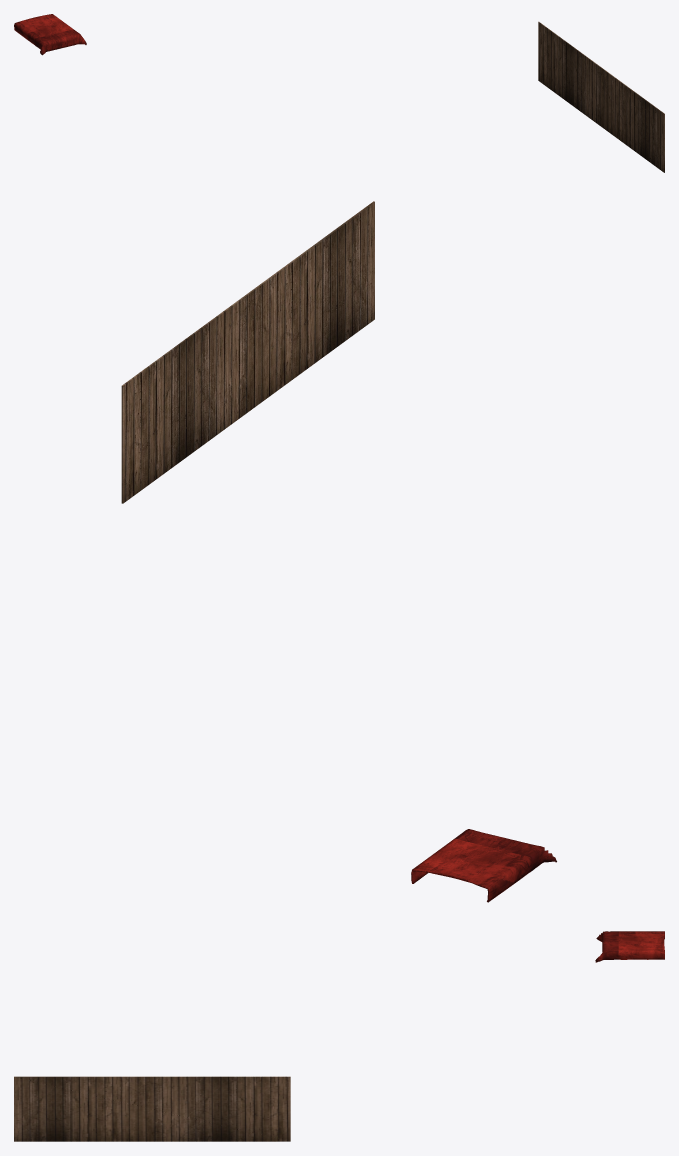
The model's file is bedsheet.fbx.
3 renders of one model, top to bottom at view 1: azimuth 30°, elevation 25°; view 2: azimuth 150°, elevation 25°; view 3: azimuth 270°, elevation 25°, orthographic. The views are drawn at different scales.
Visible parts, largest first — view 1: Room.086, Plane.030; view 2: Room.086, Plane.030; view 3: Room.086, Plane.030.
Part boxes in pixels (left/top/right/bottom): Room.086: left=538, top=21, right=664, bottom=172; Plane.030: left=14, top=14, right=86, bottom=55; Room.086: left=121, top=201, right=374, bottom=503; Plane.030: left=411, top=829, right=556, bottom=902; Room.086: left=14, top=1076, right=290, bottom=1141; Plane.030: left=595, top=931, right=664, bottom=962.
Size of the model in its own units: 5975 by 939 by 8573.
Materials: 2 (2 with a texture image).
